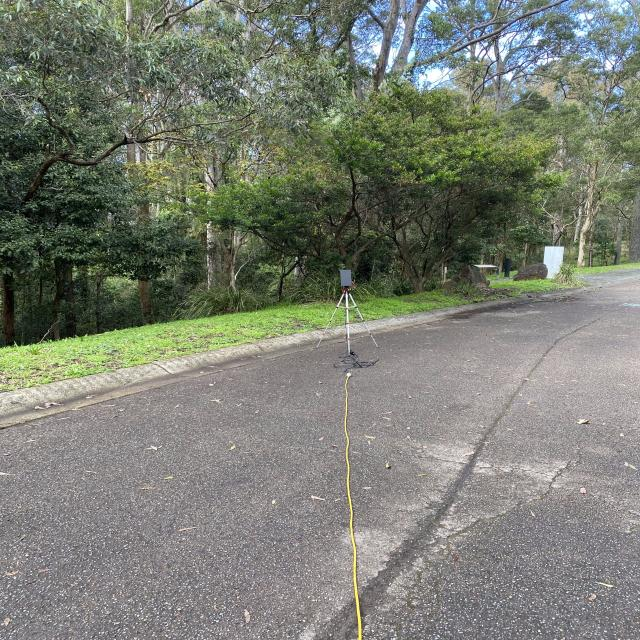matrix: (338, 268, 355, 288)
